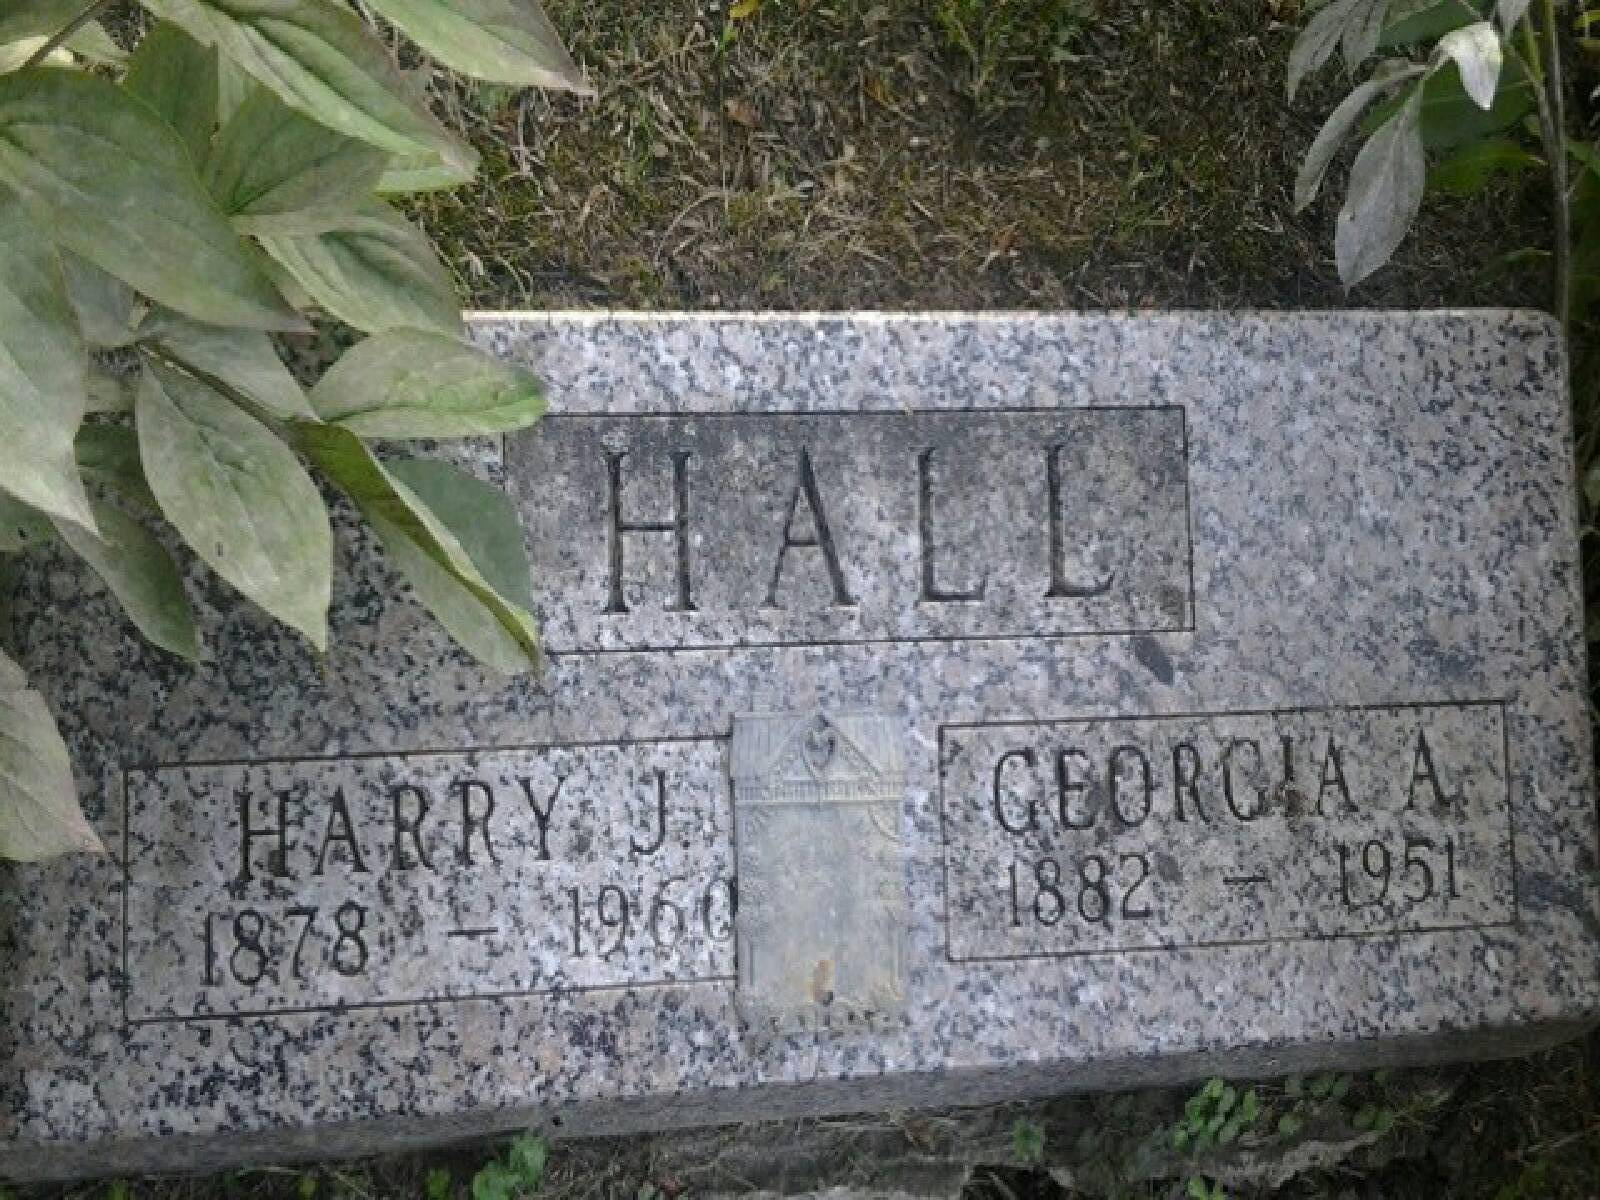flat: (0, 292, 1600, 1162)
